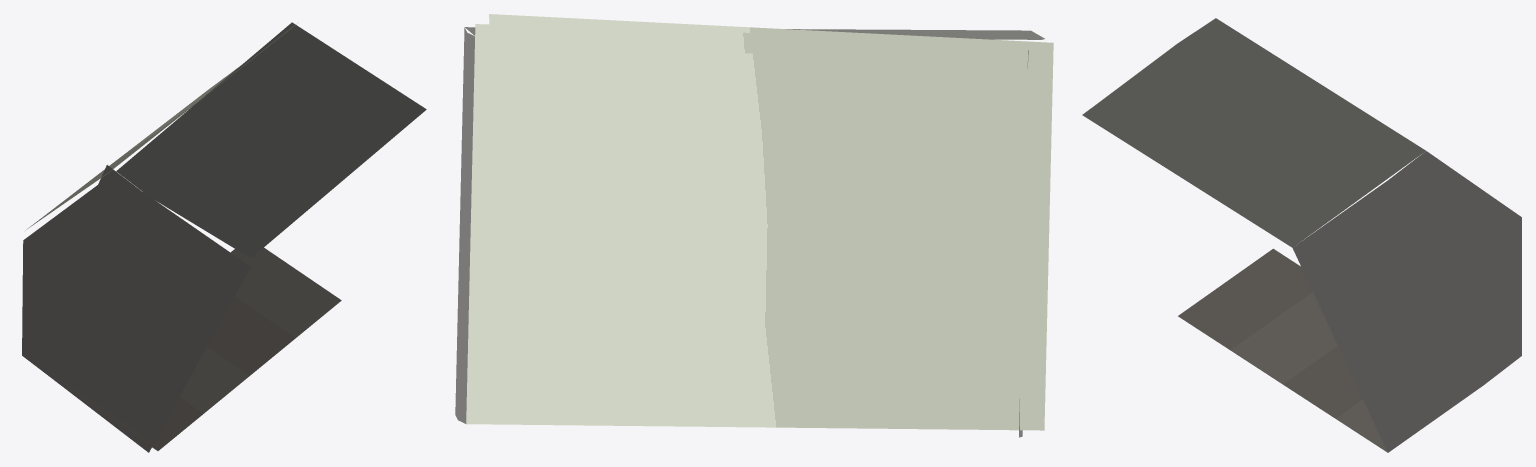
The model's file is tile_LOD3_r6_c2.glb.
The picture shows the model from 3 angles, left to right: view 1: azimuth 30°, elevation 25°; view 2: azimuth 150°, elevation 25°; view 3: azimuth 270°, elevation 25°; orthographic projection. The views are drawn at different scales.
Bounding box in the file's own units: 12.5 × 9 × 11.5.
4 materials, 3 textured.
